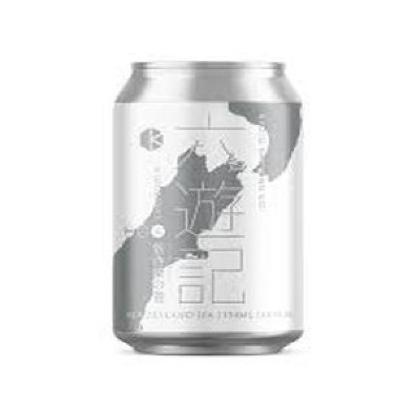Can: (109, 59, 308, 358)
